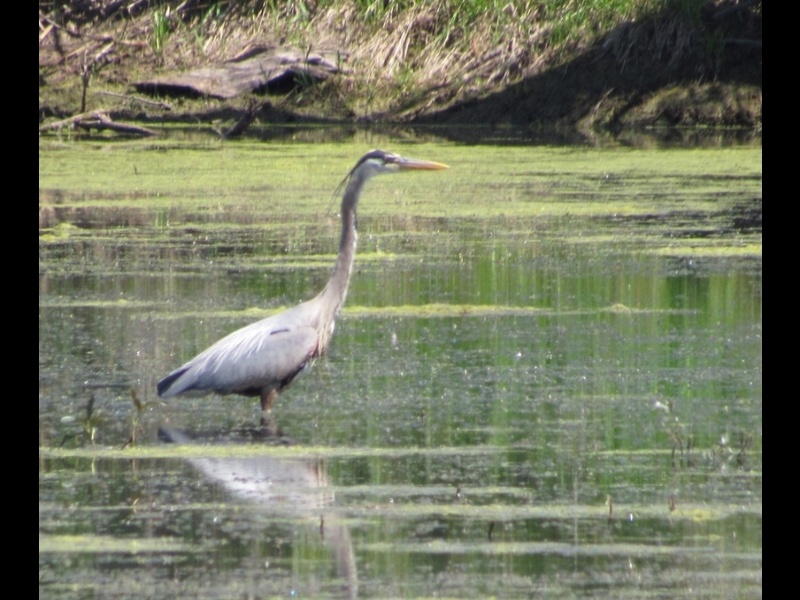heron: (150, 145, 452, 432)
